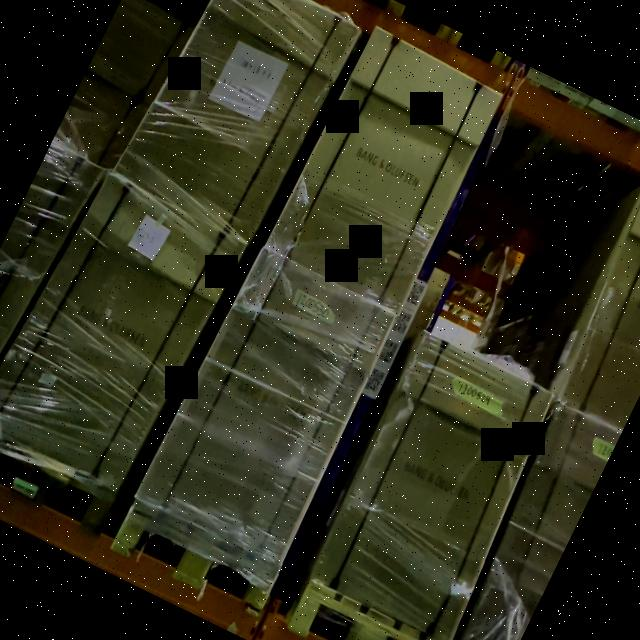box: (134, 250, 395, 561), (0, 175, 246, 487), (313, 335, 553, 640), (265, 29, 503, 314), (113, 0, 359, 235)
